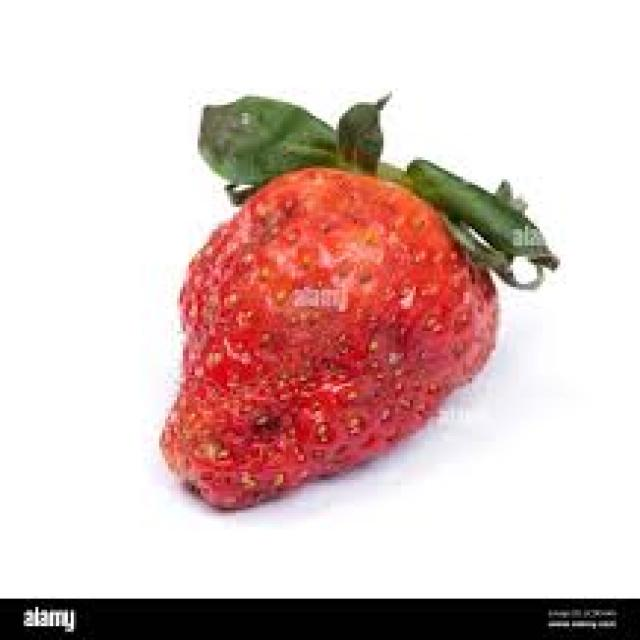Strawberries: (171, 167, 482, 490)
